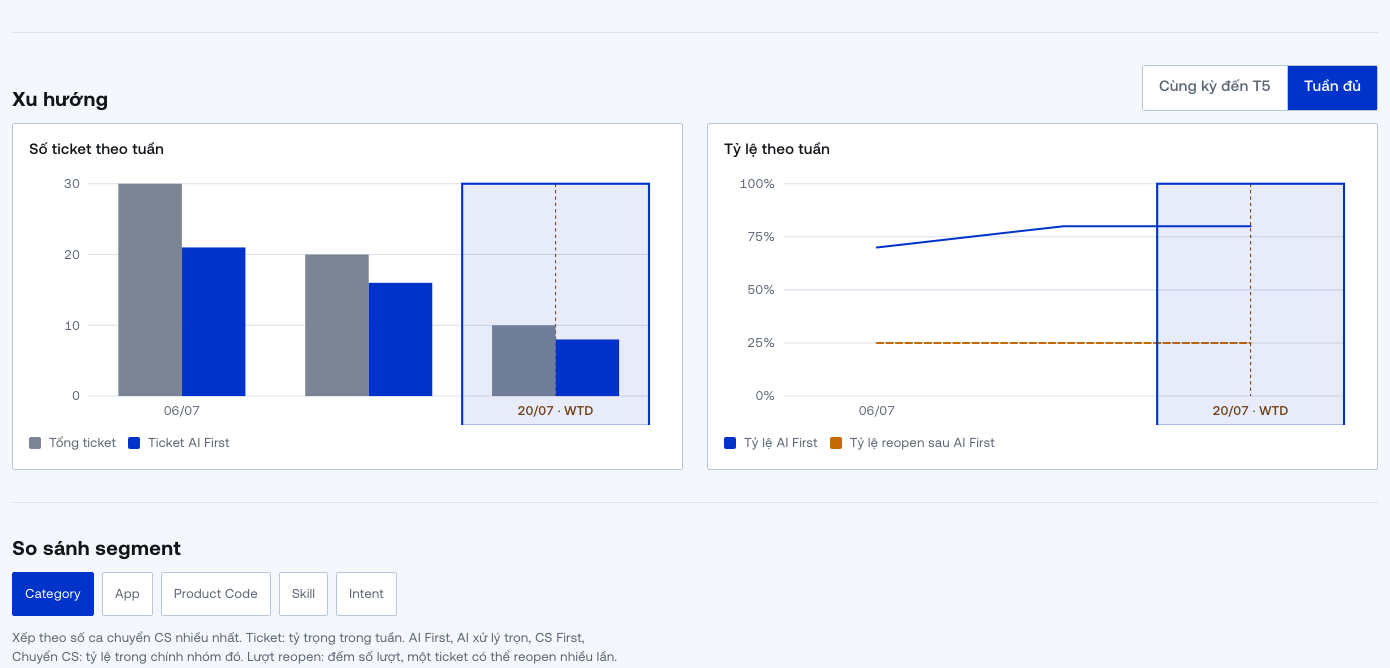
Scenario: trend chart data gaps › shows the same-period toggle only when the active view has comparison data
This screenshot has width=1390, height=668.
Step 1. Click the button "Cùng kỳ đến T5" → coordinates (1215, 88), box x1=1143 y1=66 x2=1287 y2=110
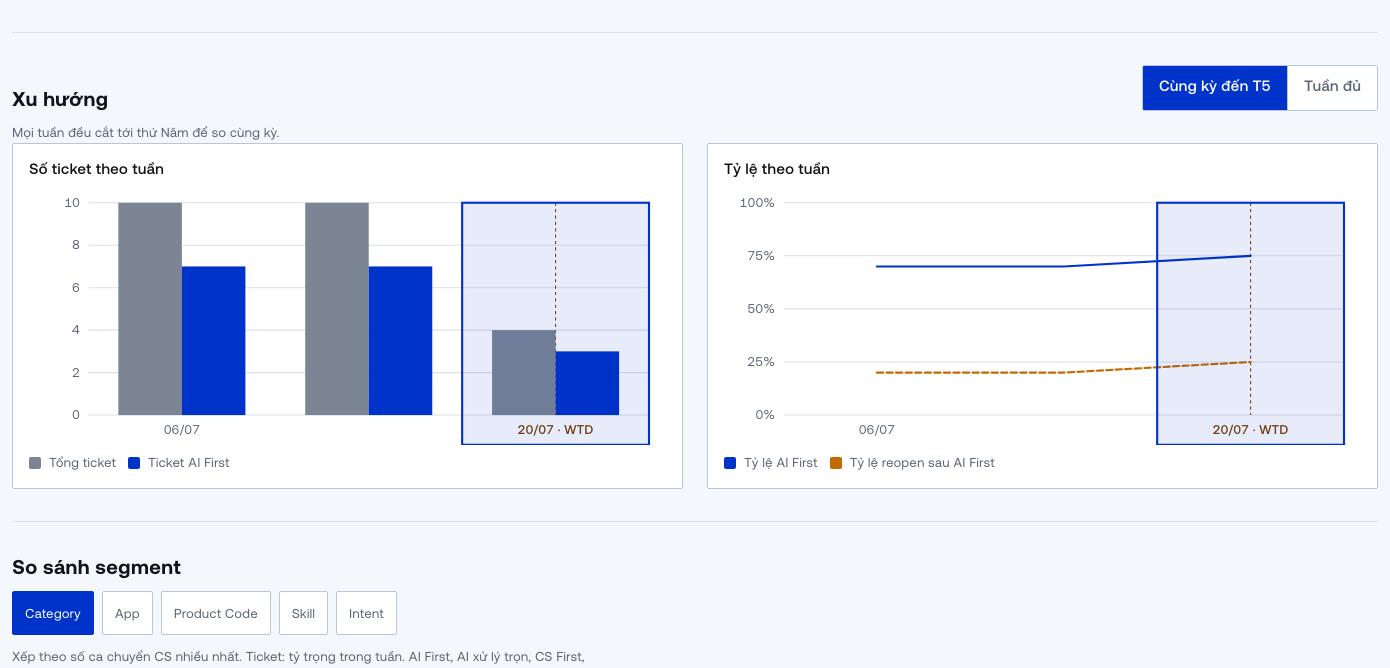
expect the text "Mọi tuần đều cắt tới thứ Năm để so cùng kỳ." is shown: met, box x1=12 y1=124 x2=279 y2=140
